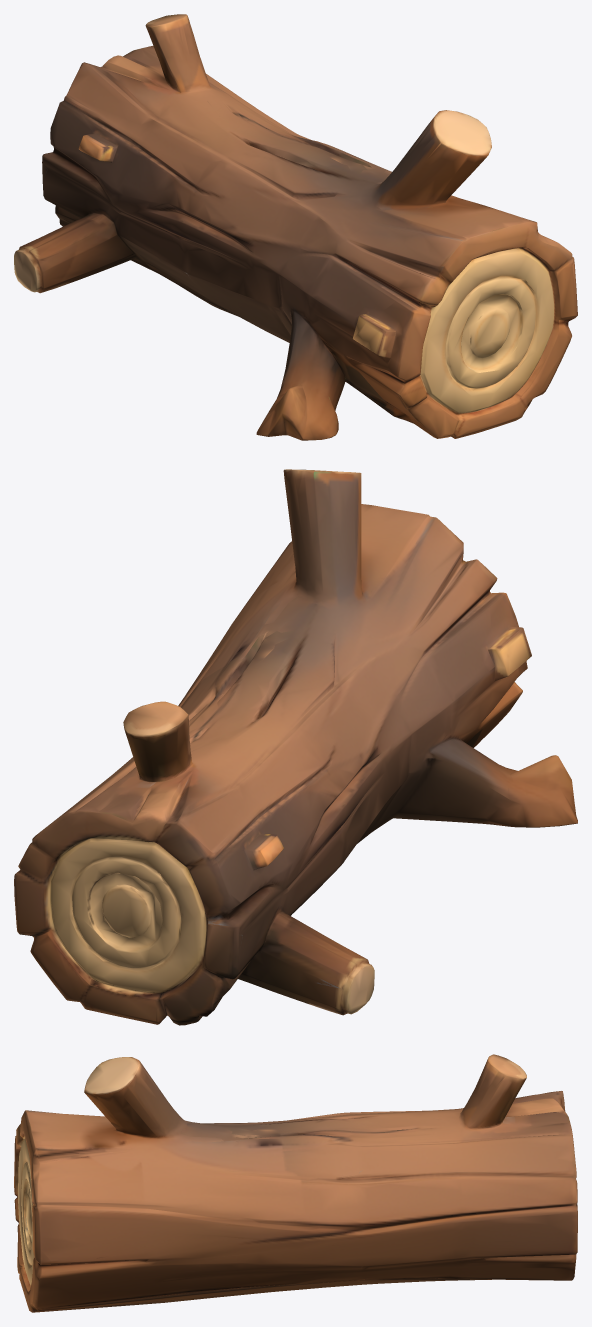
File: deadwood.fbx
3 views of the same model, one above another, from view 1: azimuth 30°, elevation 25°; view 2: azimuth 150°, elevation 25°; view 3: azimuth 270°, elevation 25° (orthographic). The views are drawn at different scales.
Parts seen in each view (by area): view 1: deadwood; view 2: deadwood; view 3: deadwood.
Boxes of the visible parts, box(x1,y1,x2,y2) form: deadwood: box(14, 14, 577, 440); deadwood: box(14, 469, 577, 1025); deadwood: box(14, 1054, 577, 1312).
Bounding box in the file's own units: 26.63 × 22.13 × 46.09.
1 material, 1 textured.
